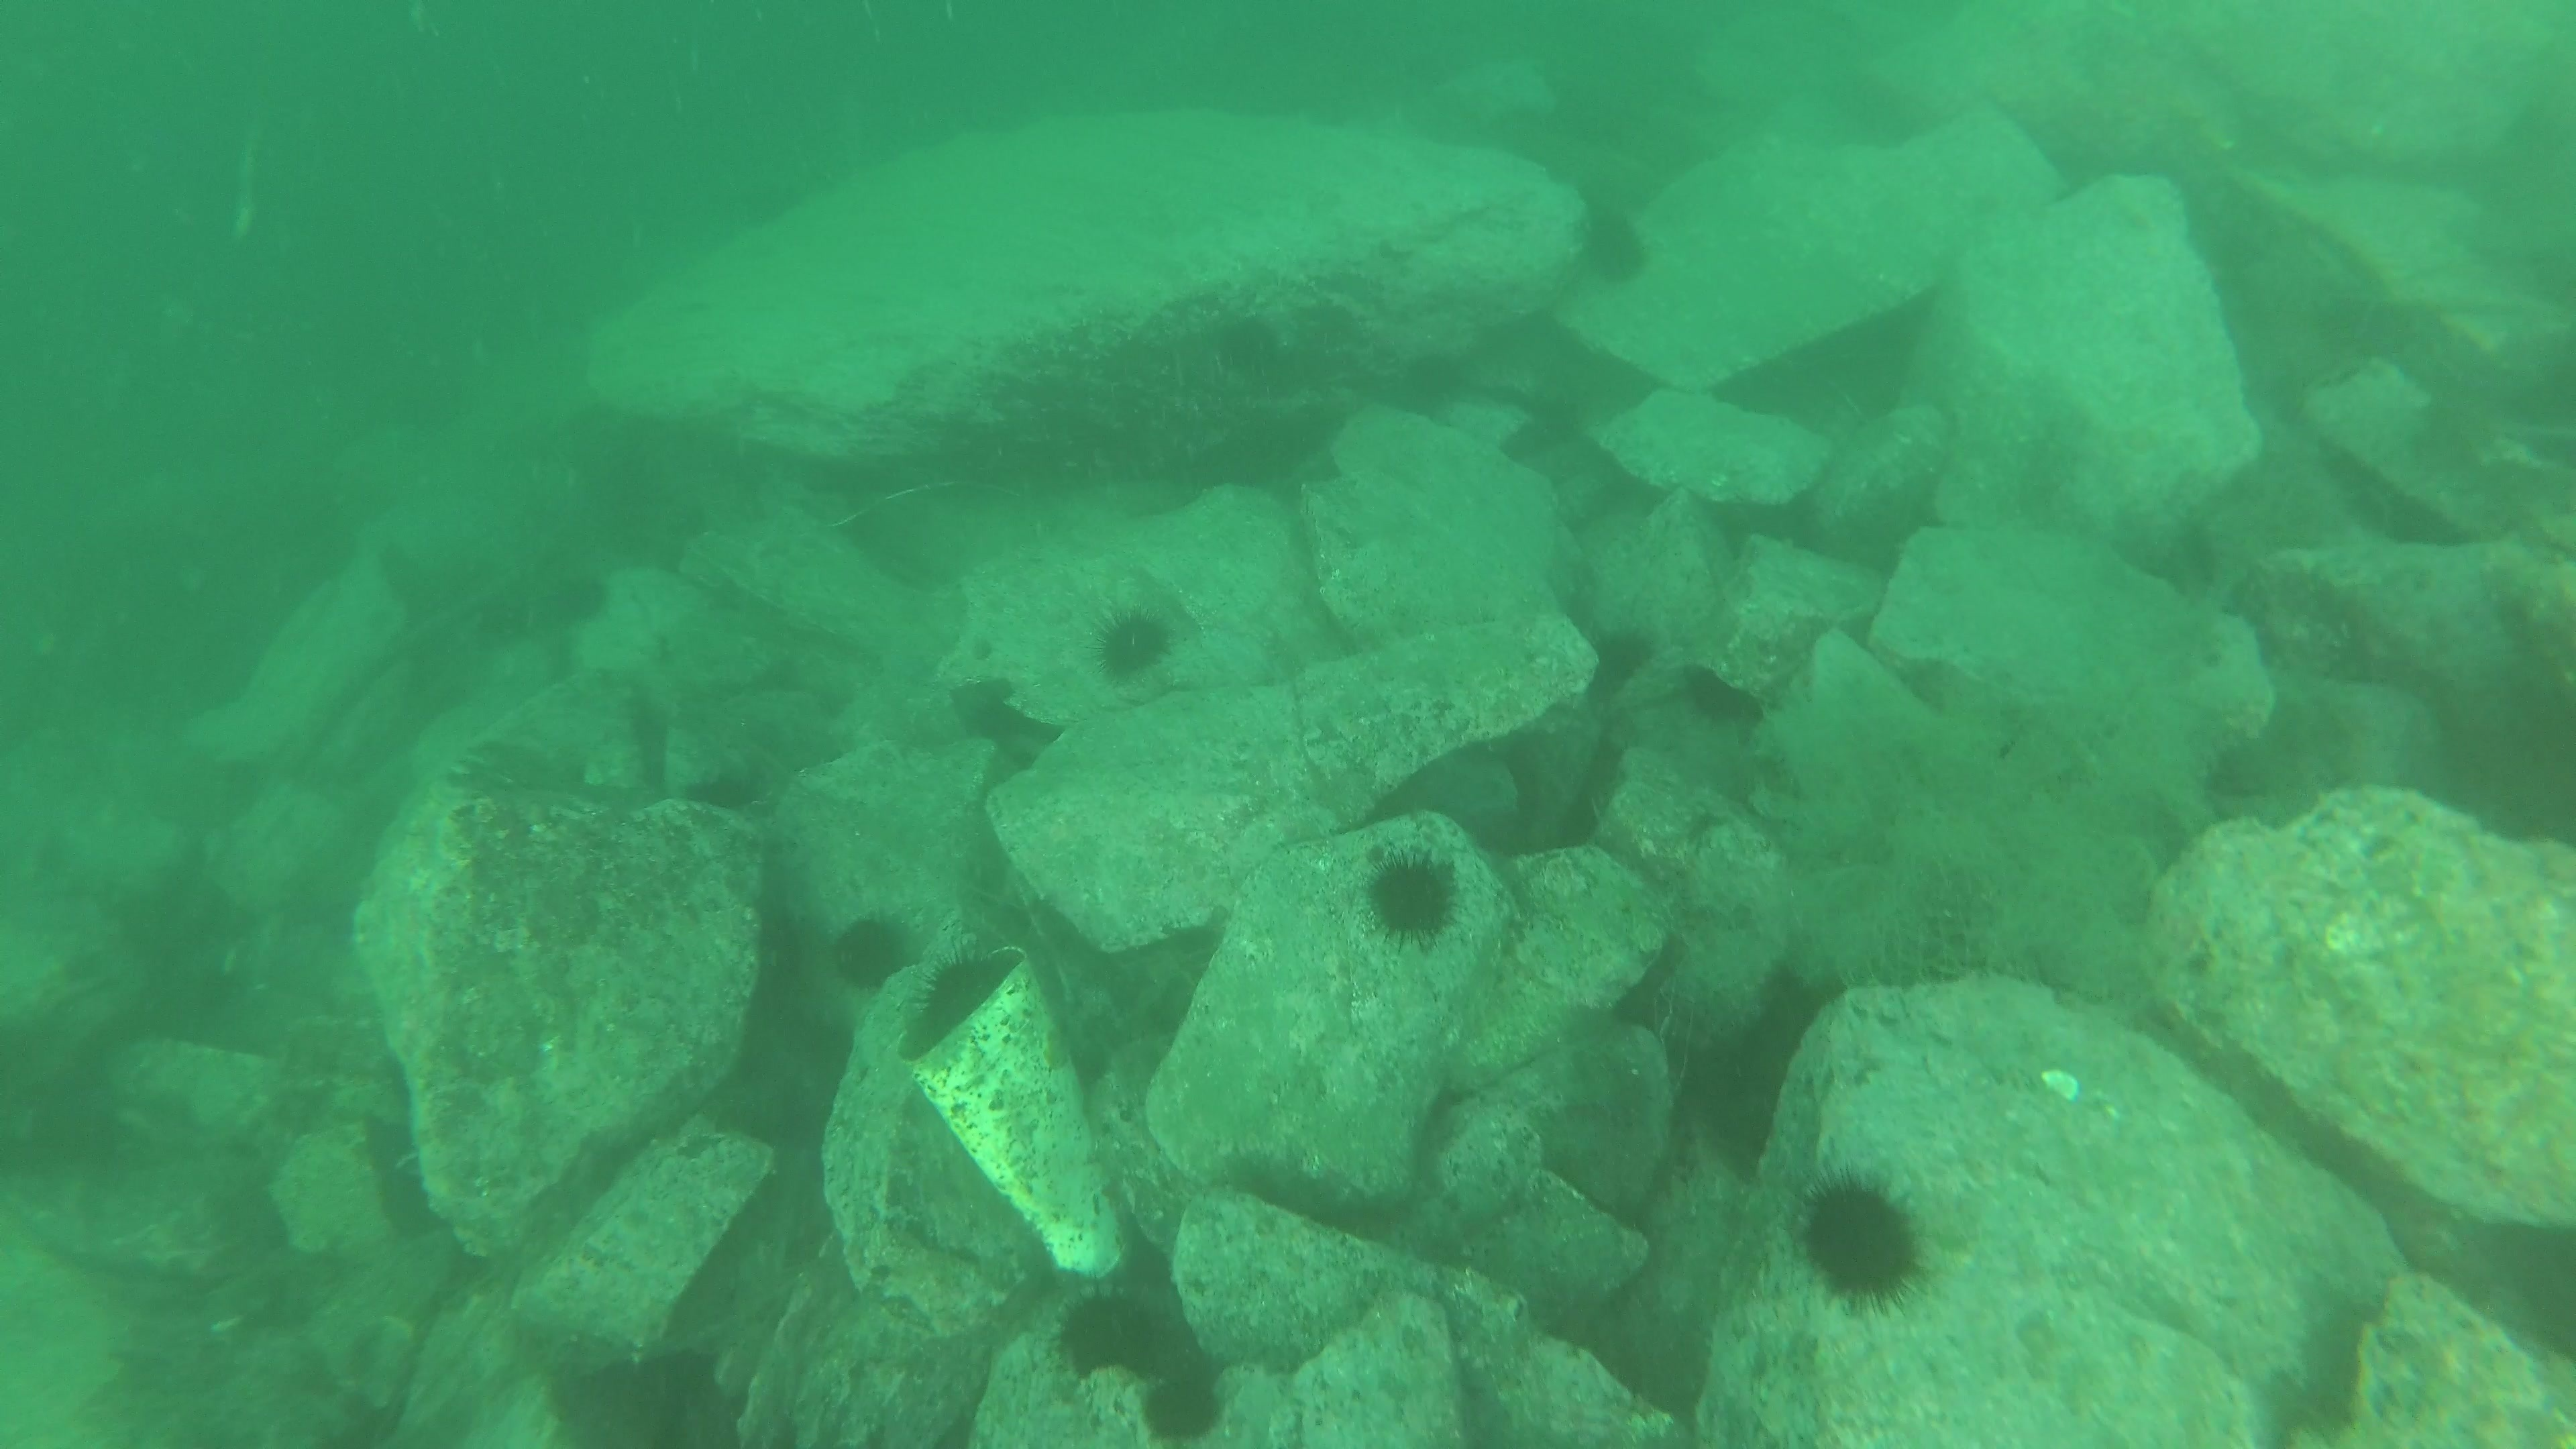echinus: (1790, 1168, 1932, 1313), (899, 941, 1024, 1063), (1051, 1283, 1177, 1389), (1357, 844, 1467, 950), (824, 906, 918, 996), (1088, 600, 1180, 688), (1571, 198, 1656, 292), (1136, 1362, 1231, 1445)
